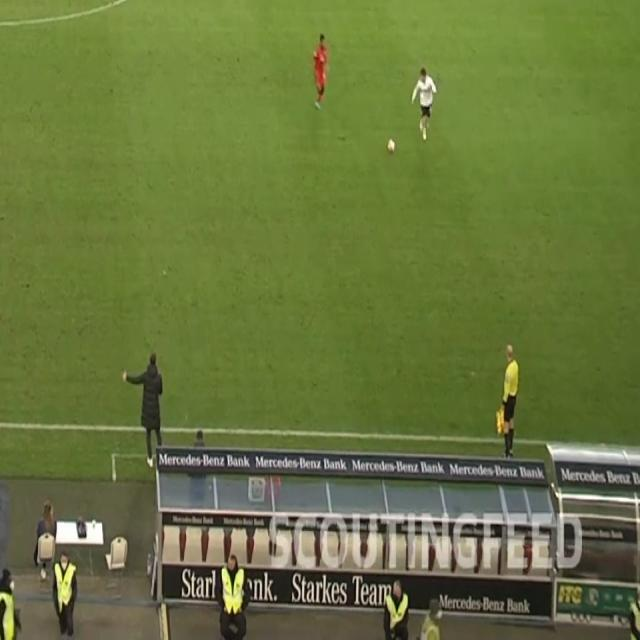ball: (386, 136, 396, 155)
